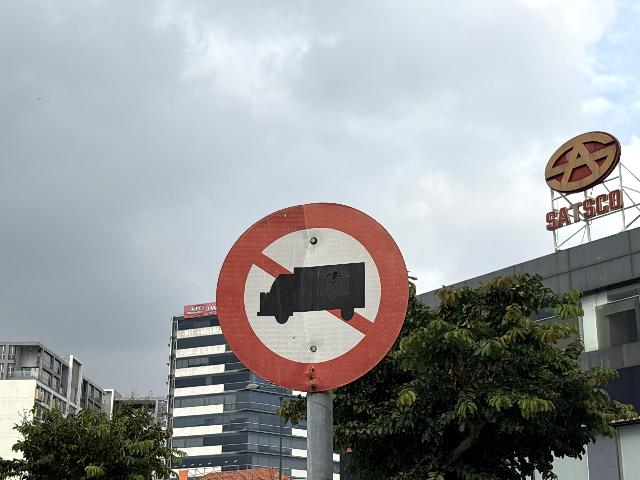cam-xe-tai: (216, 201, 409, 394)
